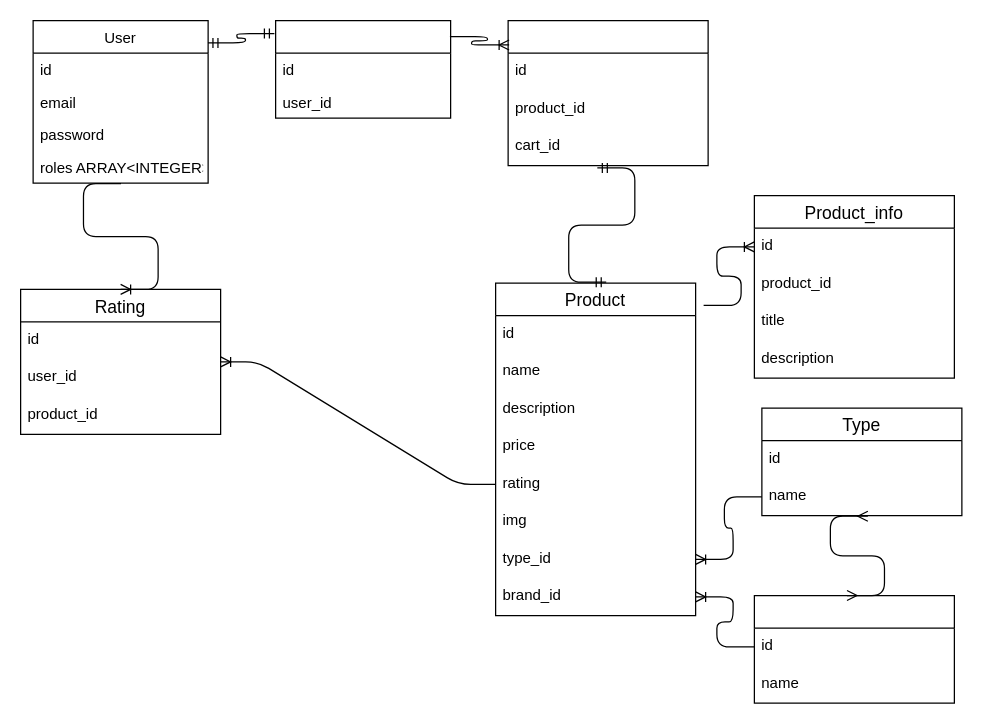
Some shapes in this 983 by 724 pixel diagram are drawn without their labels. The shapes that lost their labels are listed below. From the top down, each one's box as (x1, y1, x2, y2) in pixels, then its label:
(274, 19, 451, 118): Cart
(507, 19, 708, 166): Cart_Product
(753, 594, 954, 703): Brand
